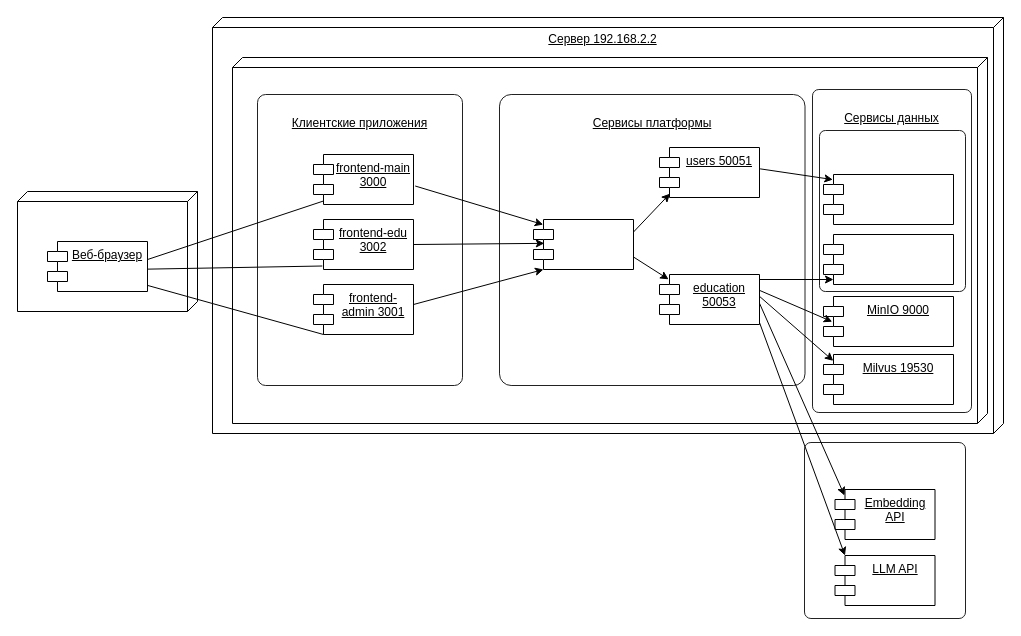
Image size: 1021x636. Some labels were removed from this diagram. Here are the shapes that lost their labels. From the top down, the box of each, then its label:
(822, 174, 954, 224): cube-plat-users
(818, 130, 966, 292): PostgreSQL 5432
(16, 190, 198, 312): Внешнее устройство 192.168.2.1
(532, 218, 634, 270): Api Gateway 8080
(232, 56, 988, 424): Docker-compose
(822, 234, 954, 284): cube-plat-education
(804, 442, 966, 618): Внешние API
